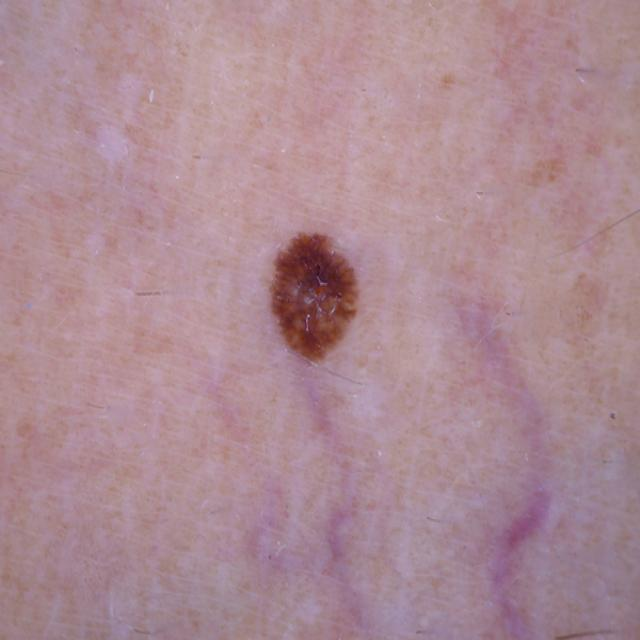Skin-Cancer Pigmented benign keratosis: (59, 42, 568, 535)
